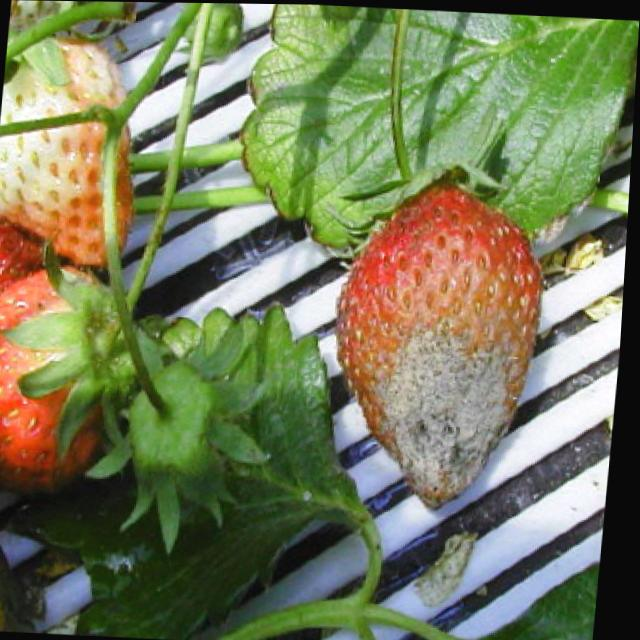Gray Mold: (337, 258, 540, 510)
